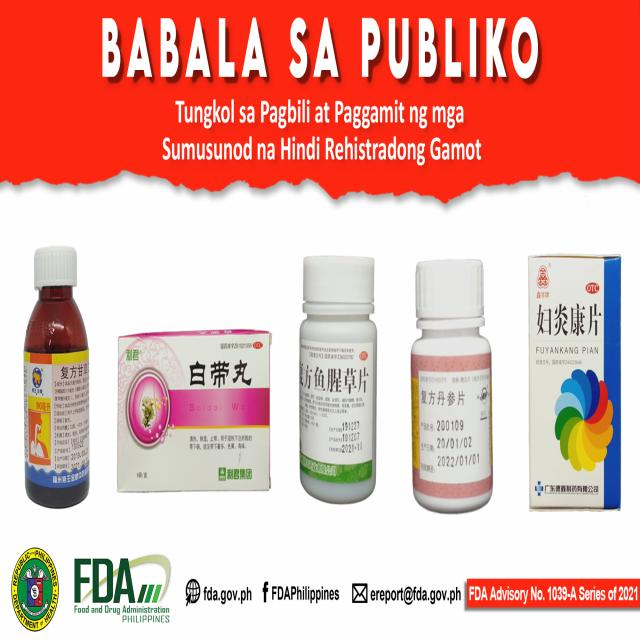counterfeit: (108, 325, 280, 501), (524, 242, 628, 522), (405, 248, 502, 506), (294, 245, 386, 514), (26, 231, 93, 518)
